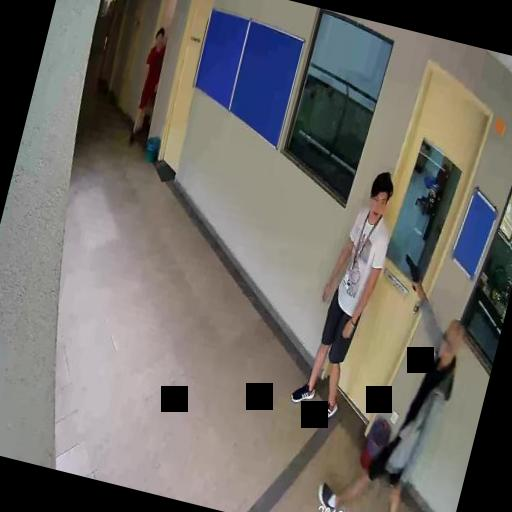Handgun: (398, 253, 424, 291)
